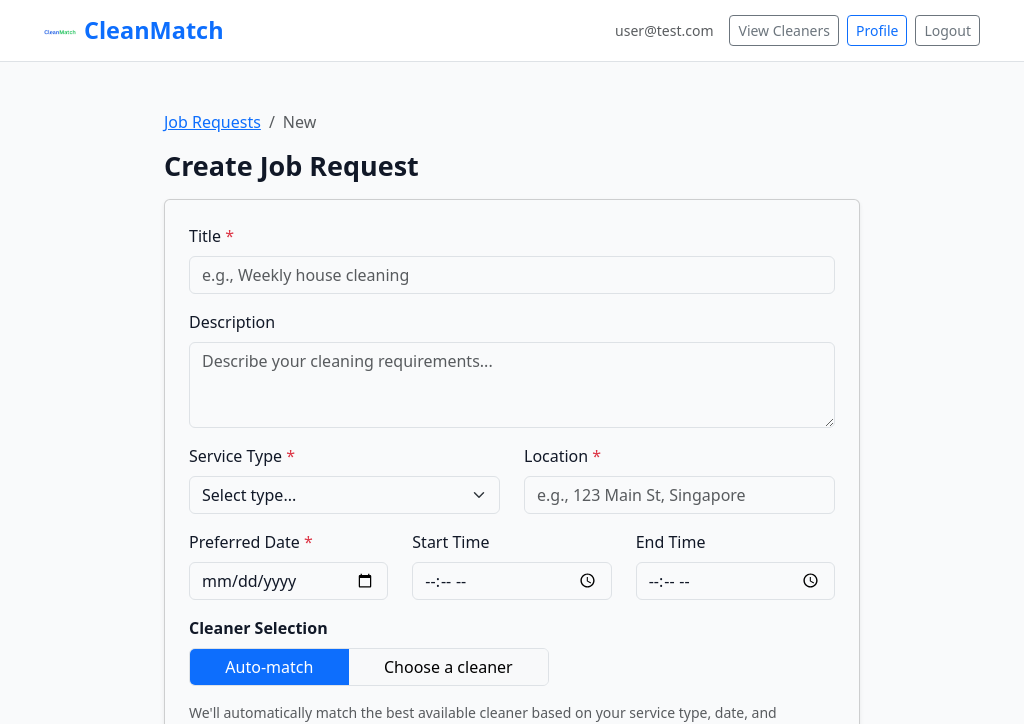
it: CreateJobRequestPage › shows service type required error when service type is missing
The image size is (1024, 724).
Type "Test Job" into the field with placeholder "e.g., Weekly house cleaning" at (512, 274), box [189,256,835,294]
(page scrolled)
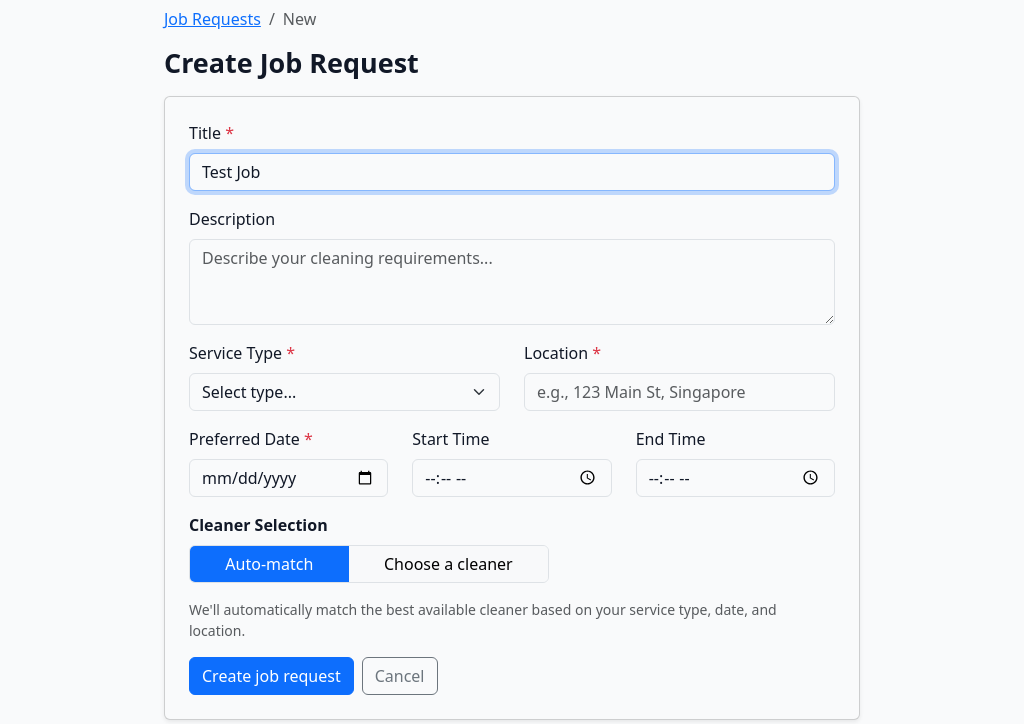
Submit the form, box [164,96,860,720]
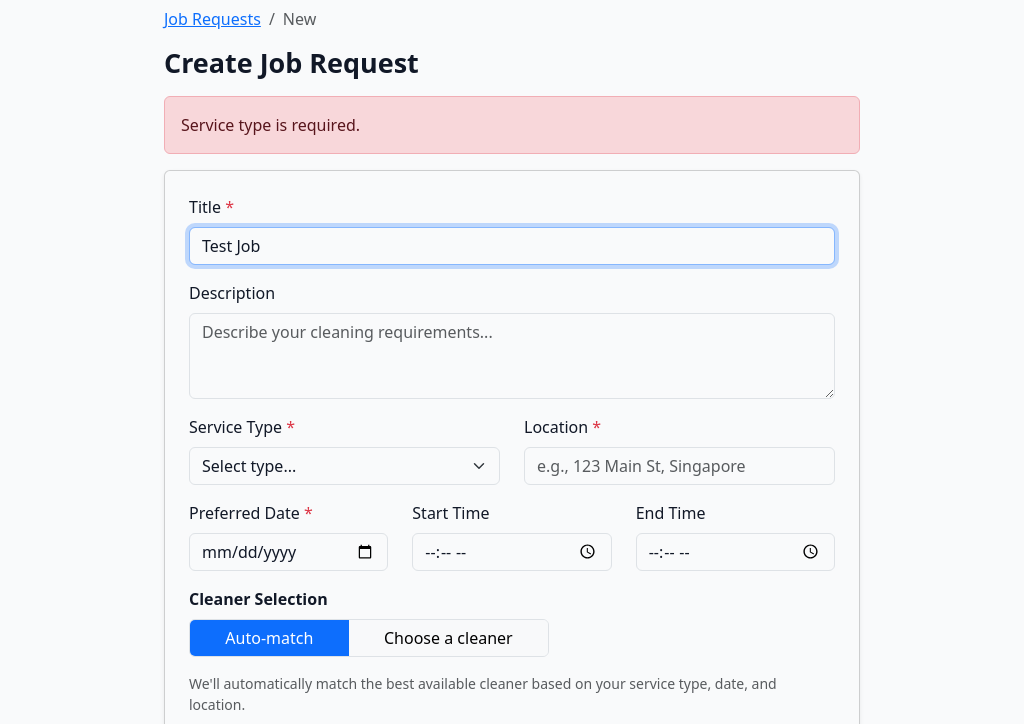
Now the text "Service type is required." is shown, box [164,96,860,154]
